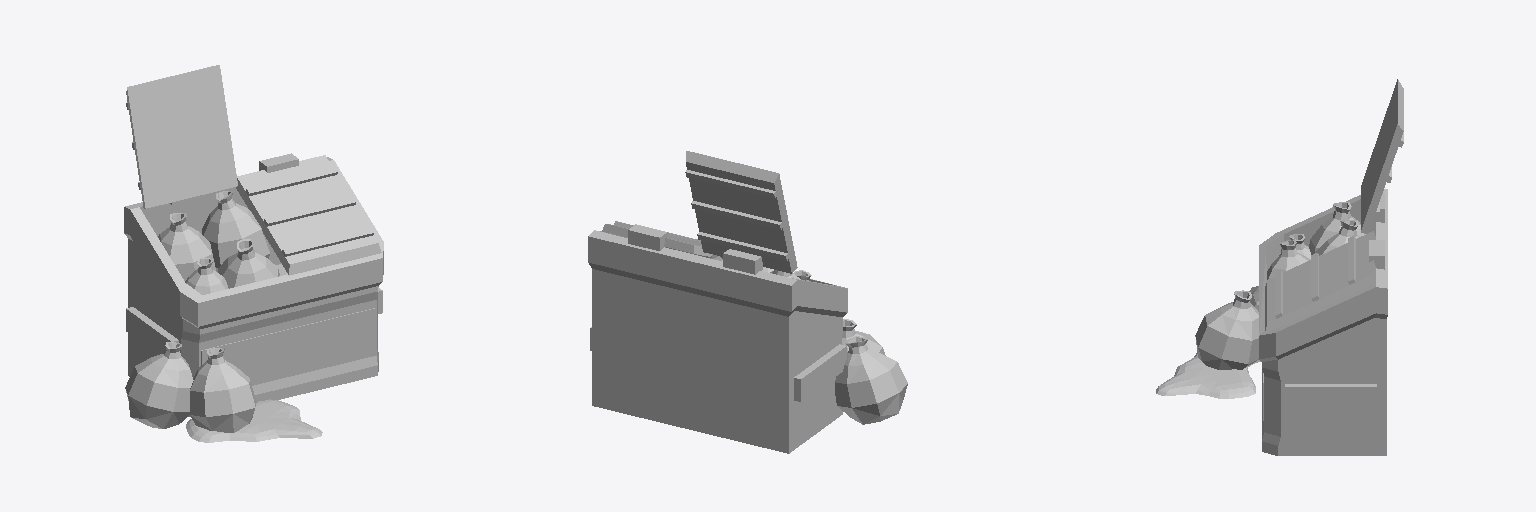
3 renders of one model, left to right at view 1: azimuth 30°, elevation 25°; view 2: azimuth 150°, elevation 25°; view 3: azimuth 270°, elevation 25°, orthographic.
Parts seen in each view (by area): view 1: TrashContainer_Open.004_Cube.133; view 2: TrashContainer_Open.004_Cube.133; view 3: TrashContainer_Open.004_Cube.133.
Part boxes in pixels (left/top/right/bottom): TrashContainer_Open.004_Cube.133: left=124, top=65, right=383, bottom=442; TrashContainer_Open.004_Cube.133: left=588, top=151, right=907, bottom=453; TrashContainer_Open.004_Cube.133: left=1156, top=79, right=1403, bottom=455.
Bounding box in the file's own units: 259 × 273 × 215.